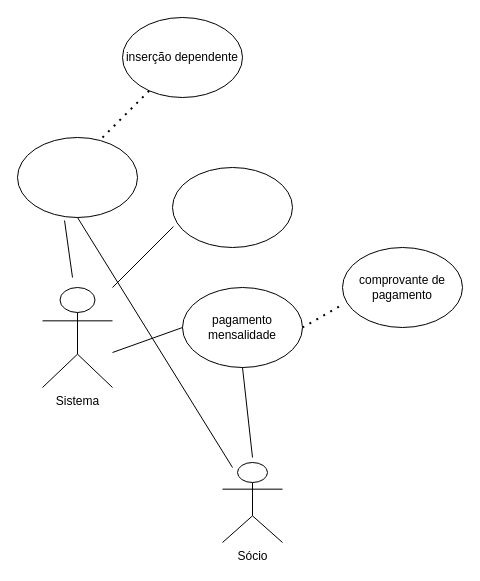
The diagram is 480 pixels wide and 581 high, and some of its shapes have lost their labels. The shapes that lost their labels are listed below. From the top down, each one's box as (x1, y1, x2, y2) in pixels, then its label:
(16, 136, 138, 218): solicitação de adesão
(172, 166, 292, 248): validação do cadastro
